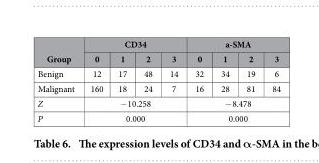table: (36, 37, 280, 123)
table column: (36, 37, 81, 123), (81, 37, 110, 123), (134, 37, 160, 123), (160, 37, 186, 123), (211, 37, 237, 123), (237, 37, 263, 123), (186, 37, 211, 123), (110, 37, 134, 123), (263, 37, 280, 123)
table column header: (36, 37, 280, 65)
table row: (36, 50, 280, 65), (36, 65, 280, 80), (36, 80, 280, 95), (36, 95, 280, 110), (36, 37, 280, 50), (36, 110, 280, 123)
table spanning cell: (81, 95, 186, 110), (186, 95, 280, 110), (81, 37, 186, 50), (81, 110, 186, 123), (36, 37, 81, 65), (186, 37, 280, 50), (186, 110, 280, 123)
